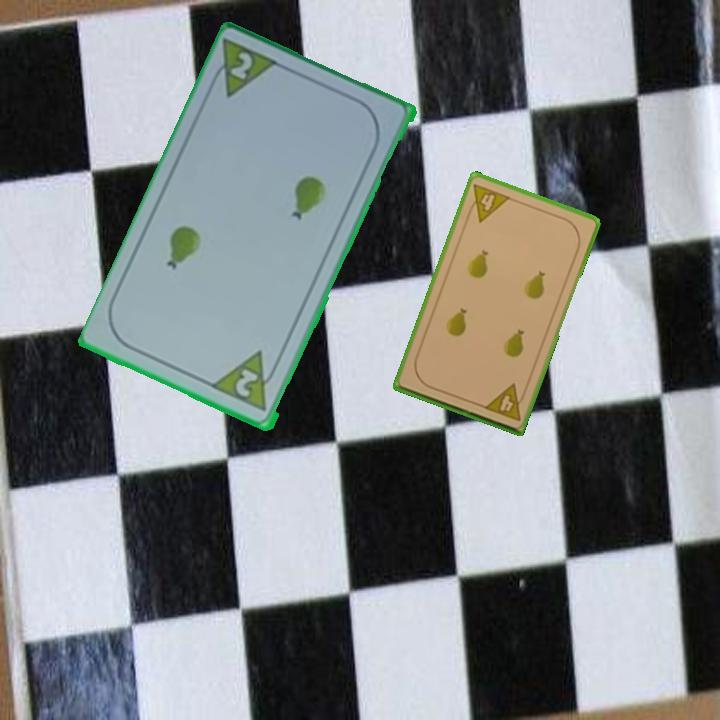2p: (210, 348, 284, 416), (227, 48, 256, 84)
4p: (463, 180, 513, 225), (480, 380, 530, 424)
